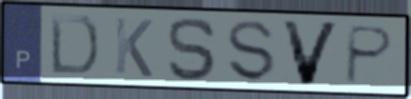D: (47, 11, 102, 78)
K: (112, 15, 156, 80)
P: (341, 23, 397, 87)
S: (165, 15, 221, 84), (225, 19, 278, 85)
V: (278, 18, 344, 88)
